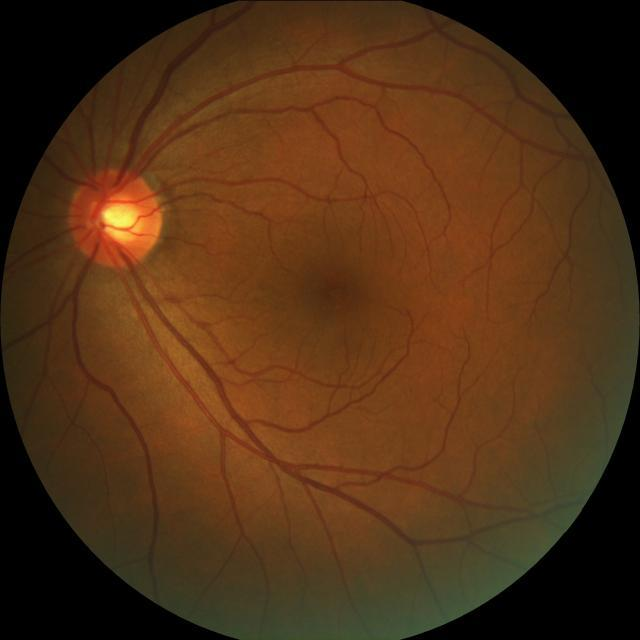OC: (99, 202, 144, 241)
OD: (66, 168, 161, 268)
